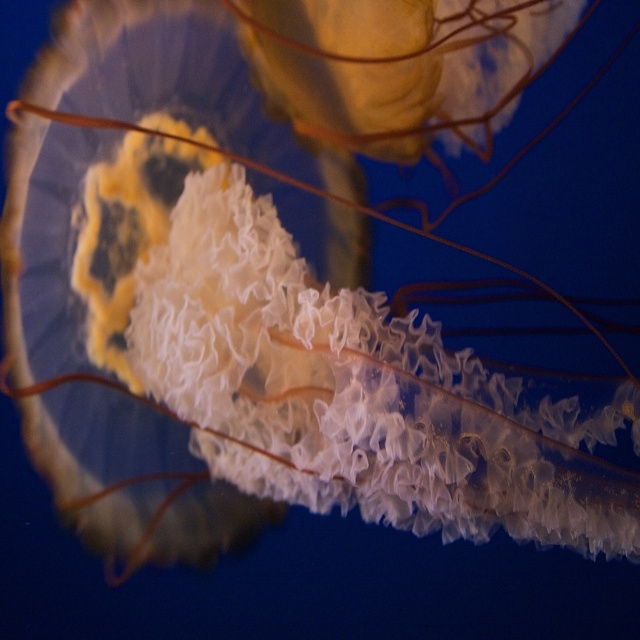Jellyfish: (0, 0, 639, 586)
